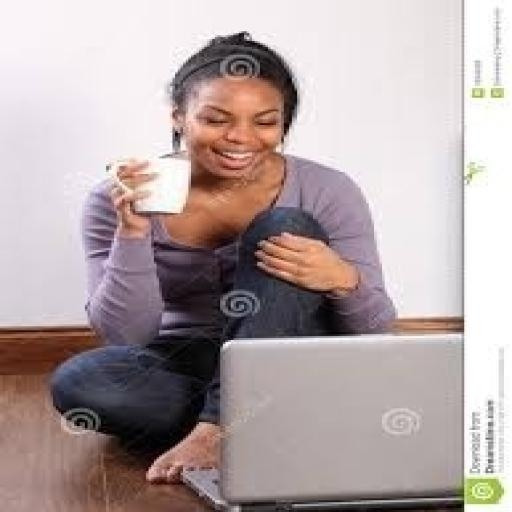using_laptop: (178, 330, 462, 510)
